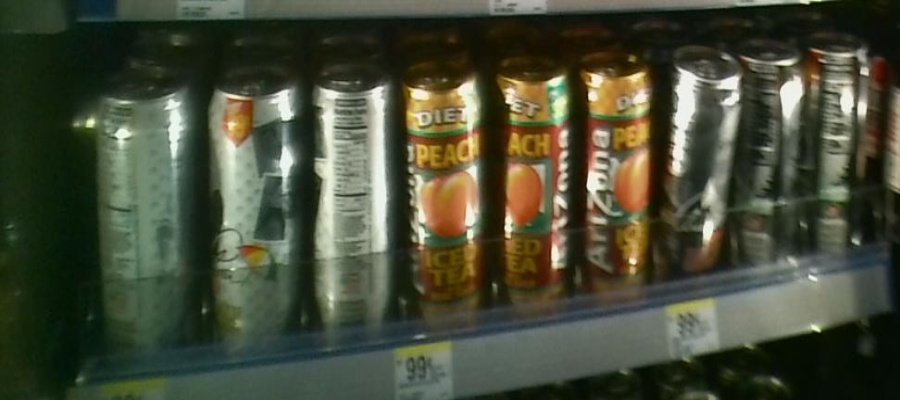bottle: (93, 68, 204, 377), (206, 54, 308, 366), (311, 53, 397, 342), (574, 44, 660, 311), (403, 66, 488, 335), (490, 48, 569, 317), (662, 37, 744, 284), (807, 24, 872, 268), (746, 39, 807, 284)
